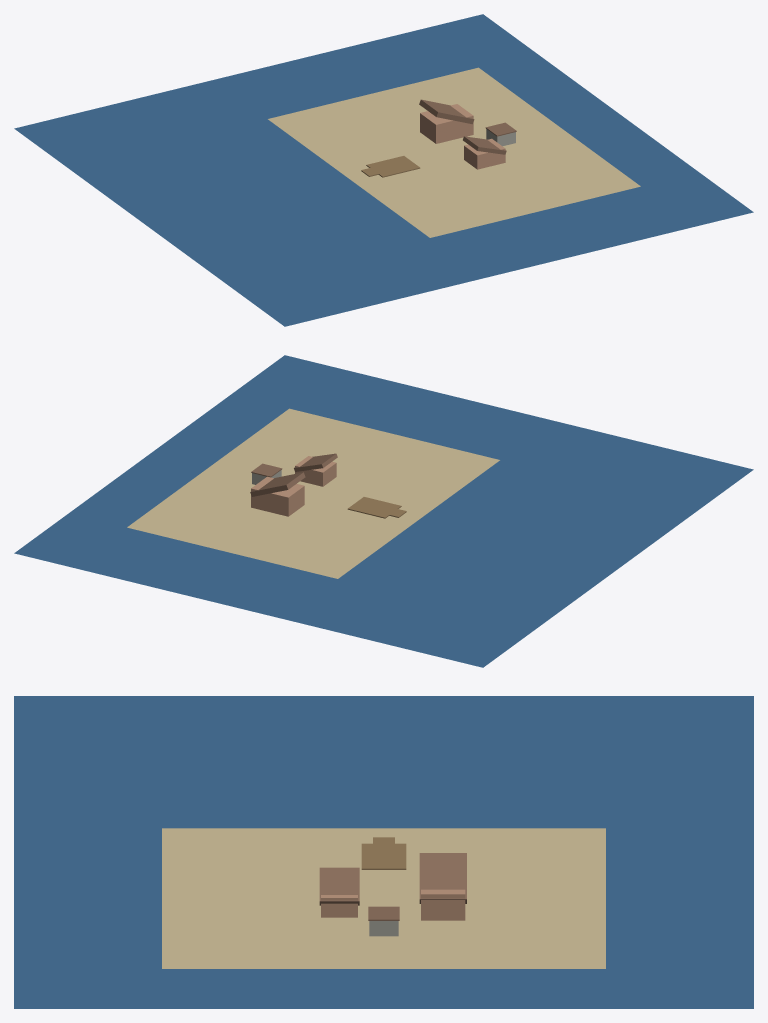
The picture shows the model from 3 angles, top to bottom: view 1: azimuth 30°, elevation 25°; view 2: azimuth 150°, elevation 25°; view 3: azimuth 270°, elevation 25°; orthographic projection. The views are drawn at different scales.
Parts seen in each view (by area): view 1: Ocean, Land, Warehouse_1, Warehouse_2, Dock_Main, Warehouse_1_Roof; view 2: Ocean, Land, Warehouse_1, Dock_Main, Warehouse_2, Warehouse_1_Roof; view 3: Ocean, Land, Warehouse_1_Roof, Warehouse_1, Warehouse_2_Roof, Dock_Main, Warehouse_2.
Boxes of the visible parts, x1=… form: Ocean: x1=14, y1=14, x2=753, y2=326; Land: x1=268, y1=67, x2=640, y2=237; Warehouse_1: x1=420, y1=104, x2=473, y2=143; Warehouse_2: x1=464, y1=138, x2=505, y2=169; Dock_Main: x1=366, y1=156, x2=420, y2=177; Warehouse_1_Roof: x1=419, y1=99, x2=474, y2=124; Ocean: x1=14, y1=355, x2=753, y2=667; Land: x1=127, y1=408, x2=499, y2=578; Warehouse_1: x1=251, y1=476, x2=304, y2=516; Dock_Main: x1=347, y1=497, x2=401, y2=518; Warehouse_2: x1=295, y1=456, x2=336, y2=486; Warehouse_1_Roof: x1=250, y1=472, x2=305, y2=496; Ocean: x1=14, y1=696, x2=753, y2=1008; Land: x1=162, y1=828, x2=605, y2=968; Warehouse_1_Roof: x1=419, y1=853, x2=466, y2=903; Warehouse_1: x1=421, y1=889, x2=465, y2=920; Warehouse_2_Roof: x1=319, y1=867, x2=359, y2=905; Dock_Main: x1=361, y1=843, x2=406, y2=869; Warehouse_2: x1=321, y1=895, x2=357, y2=917.
Size of the model in its own units: 100 by 8.3 by 100.
